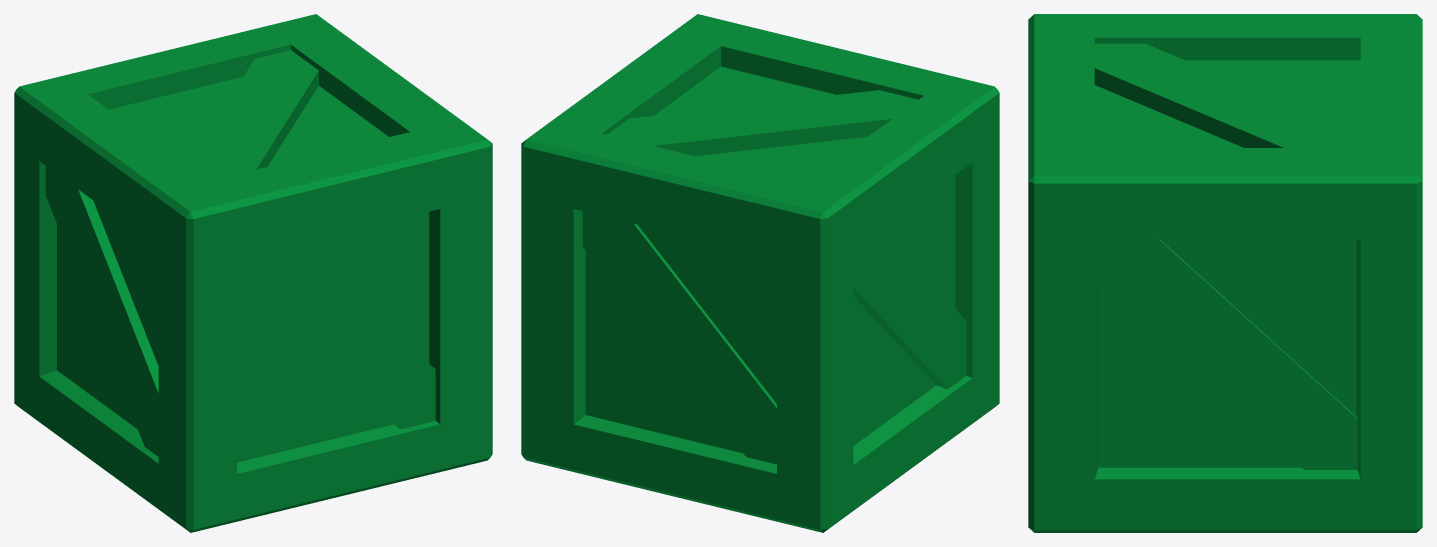
File: Scatola.fbx
The picture shows the model from 3 angles, left to right: view 1: azimuth 30°, elevation 25°; view 2: azimuth 150°, elevation 25°; view 3: azimuth 270°, elevation 25°; orthographic projection. The views are drawn at different scales.
Visible parts, largest first — view 1: Scatola; view 2: Scatola; view 3: Scatola.
Boxes of the visible parts, box(x1,y1,x2,y2) form: Scatola: box(14, 14, 492, 532); Scatola: box(521, 14, 999, 532); Scatola: box(1028, 14, 1422, 532).
Bounding box in the file's own units: 94.32 × 94.32 × 94.32.
